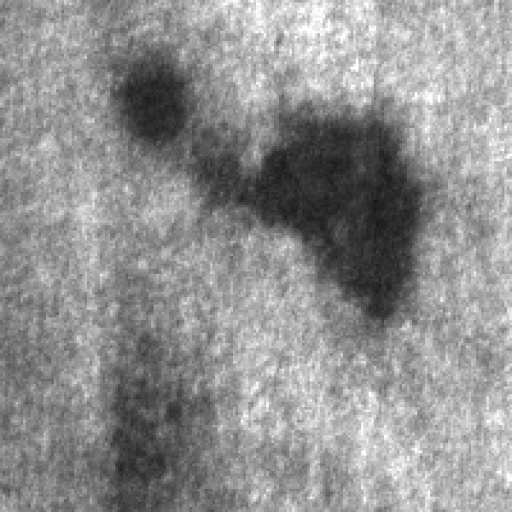patches: (203, 91, 440, 327), (84, 285, 228, 511), (100, 33, 200, 155)
